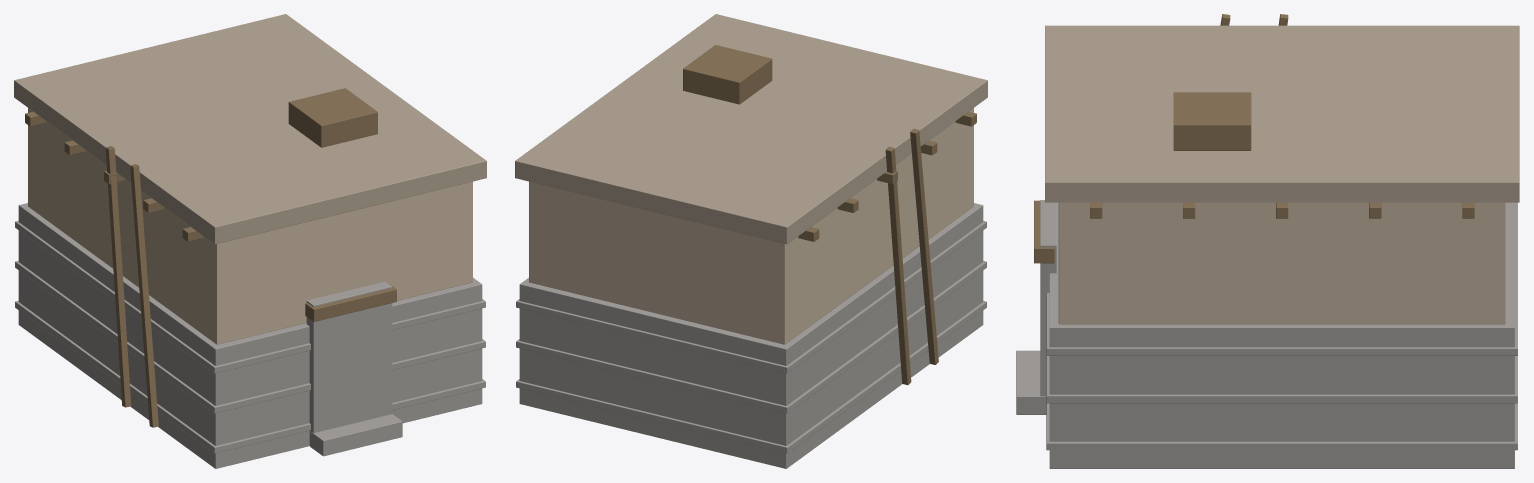
File: House_Neo_b.glb
3 renders of one model, left to right at view 1: azimuth 30°, elevation 25°; view 2: azimuth 150°, elevation 25°; view 3: azimuth 270°, elevation 25°, orthographic. The views are drawn at different scales.
Parts seen in each view (by area): view 1: House_Neo_b; view 2: House_Neo_b; view 3: House_Neo_b.
Part boxes in pixels (x1=…): House_Neo_b: x1=14, y1=14, x2=486, y2=468; House_Neo_b: x1=515, y1=14, x2=987, y2=468; House_Neo_b: x1=1016, y1=14, x2=1519, y2=468.
Size of what is drawn, in the model's own units: 3.8 by 3.36 by 4.87.
